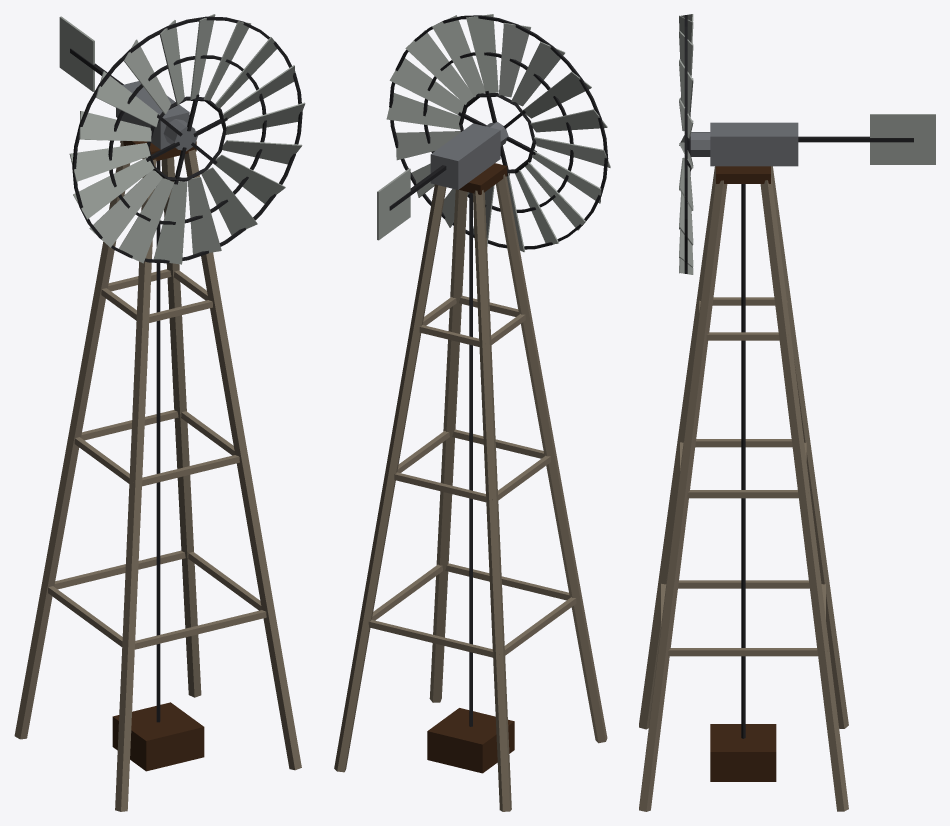
The model's file is SM_Windmill.obj.
3 views of the same model, side by side, from view 1: azimuth 30°, elevation 25°; view 2: azimuth 150°, elevation 25°; view 3: azimuth 270°, elevation 25° (orthographic). The views are drawn at different scales.
Visible parts, largest first — view 1: SM_Windmill; view 2: SM_Windmill; view 3: SM_Windmill.
Part boxes in pixels (<box>): SM_Windmill: <box>14,14,305,811</box>; SM_Windmill: <box>334,14,610,811</box>; SM_Windmill: <box>639,14,935,811</box>.
Bounding box in the file's own units: 2.37 × 7.44 × 2.7.
